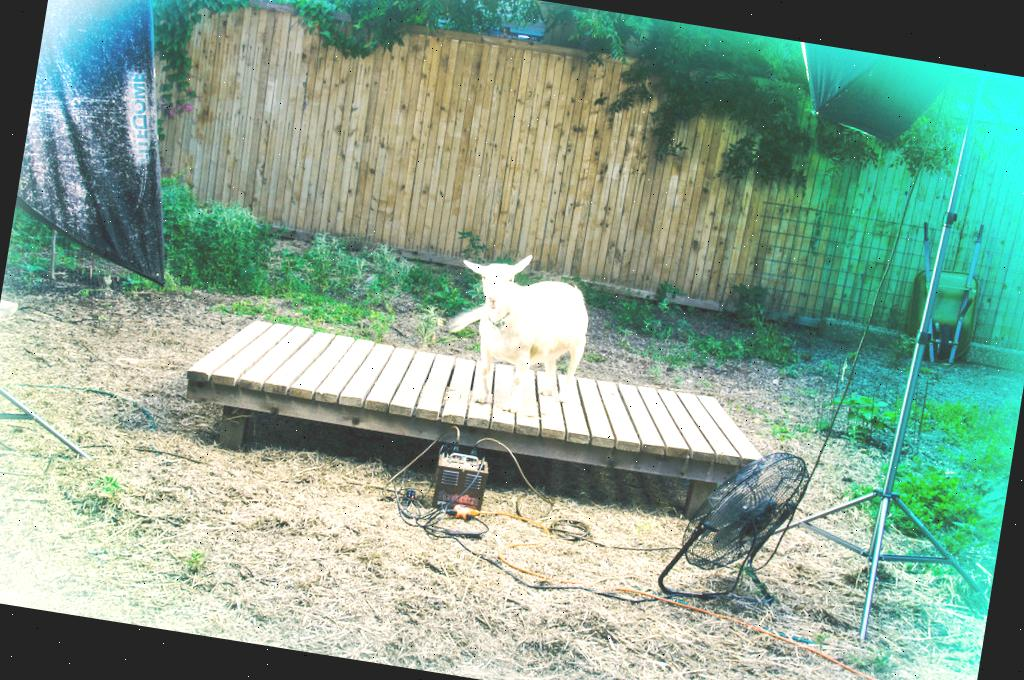Sheep: (453, 251, 607, 424)
